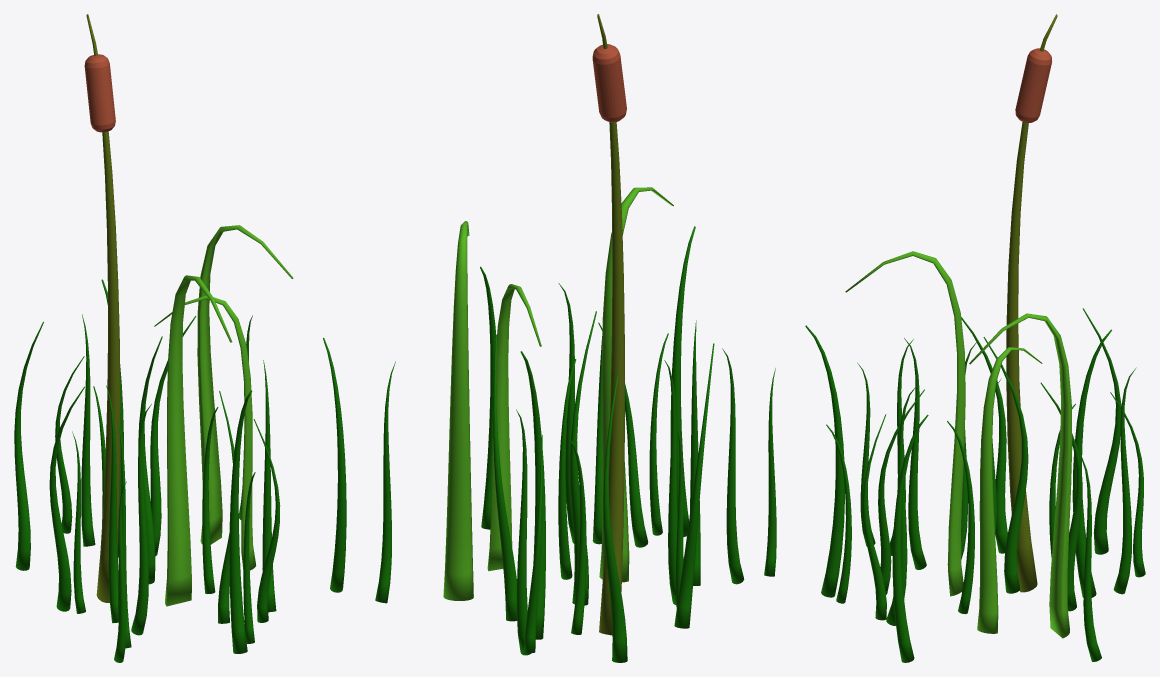
File: junco1.fbx
3 views of the same model, side by side, from view 1: azimuth 30°, elevation 25°; view 2: azimuth 150°, elevation 25°; view 3: azimuth 270°, elevation 25° (orthographic). The views are drawn at different scales.
Visible parts, largest first — view 1: junco; view 2: junco; view 3: junco.
Part boxes in pixels (x1,y1,x2,y2): junco: [14, 14, 346, 662]; junco: [375, 14, 776, 662]; junco: [805, 14, 1145, 662].
Size of the model in its own units: 32.21 by 71.59 by 38.45.
